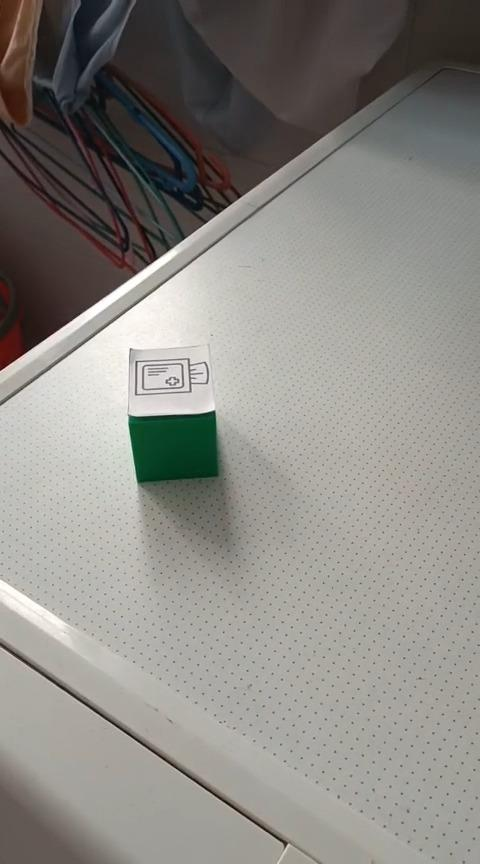Gauze: (126, 342, 219, 483)
